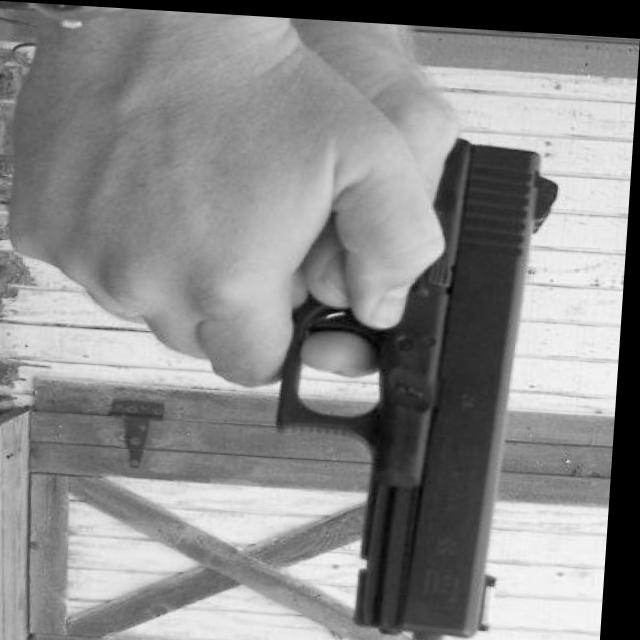handgun: (269, 124, 564, 640)
